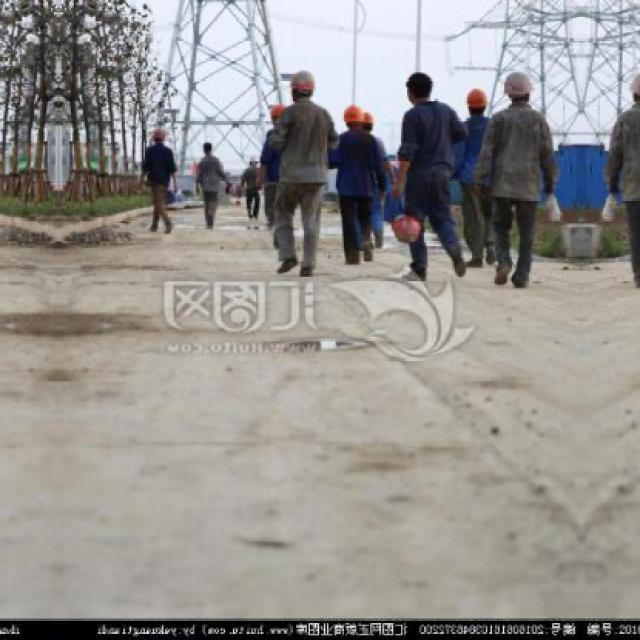helmet: (501, 69, 534, 105), (288, 68, 318, 103), (464, 85, 490, 118), (342, 102, 364, 130), (268, 100, 287, 131), (628, 67, 640, 104), (150, 124, 168, 144)
